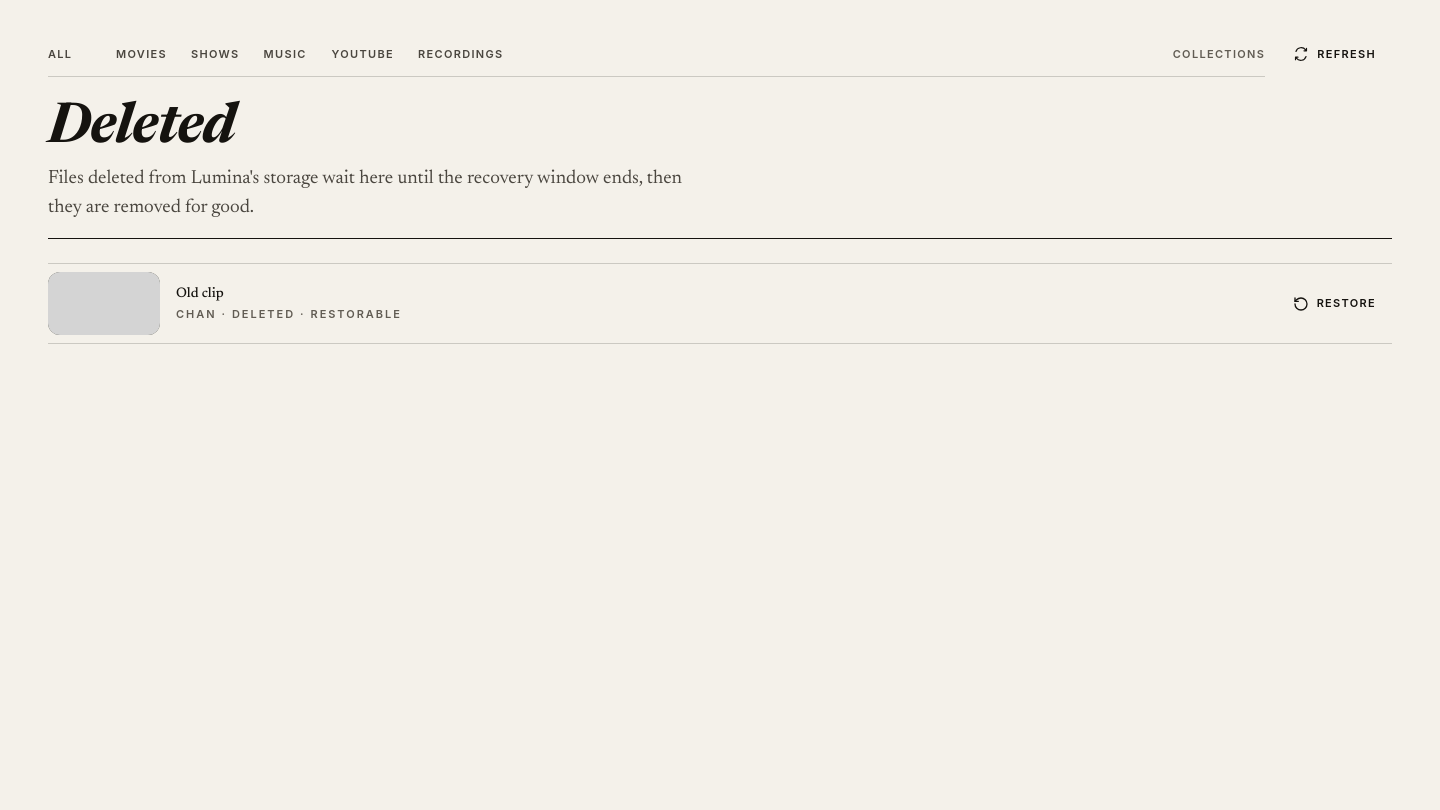
Test case: Library lenses › lists deleted files in the gallery and restores one
The width and height of the screenshot is (1440, 810).
Expected: the heading "Deleted" is shown, [48,101,235,157]
Expected: the text "Files deleted from Lumina's storage wait here until the recovery window ends, then they are removed for good." is shown, [48,169,682,216]
Click the button "Restore".
click(1334, 304)  # box [1277,282,1392,326]
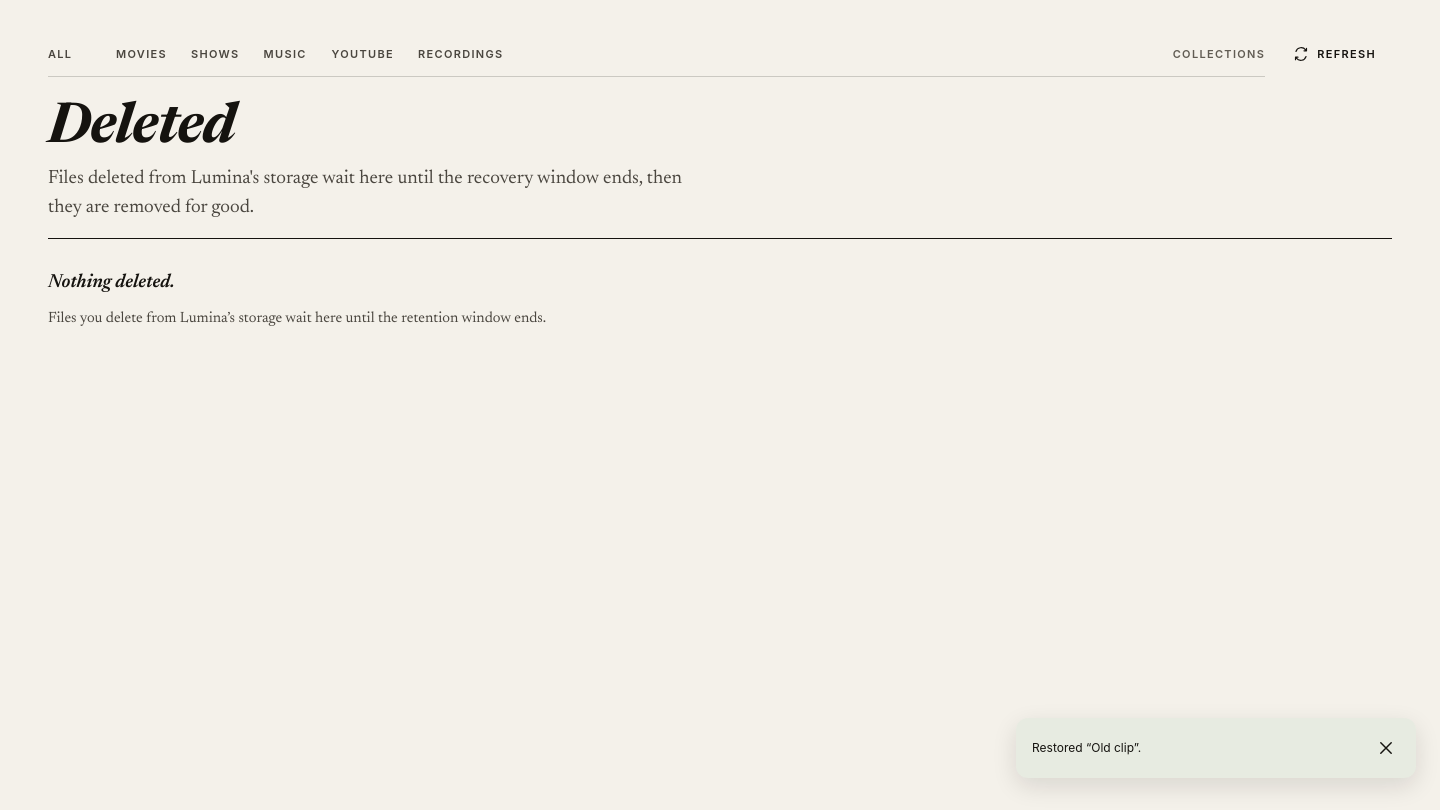
Expected: the text "Restored “Old clip”." is shown, [1032,740,1141,755]
